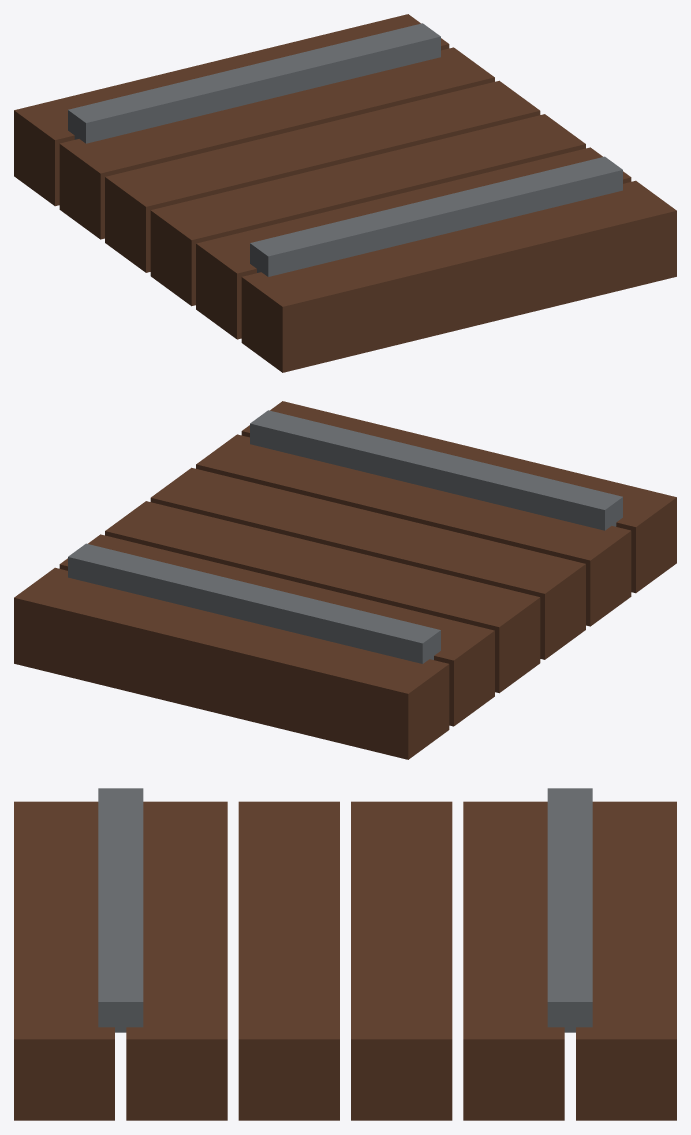
The model's file is Hatch__Floor.fbx.
The picture shows the model from 3 angles, top to bottom: view 1: azimuth 30°, elevation 25°; view 2: azimuth 150°, elevation 25°; view 3: azimuth 270°, elevation 25°; orthographic projection. The views are drawn at different scales.
Visible parts, largest first — view 1: Hatch__Floor; view 2: Hatch__Floor; view 3: Hatch__Floor.
Boxes of the visible parts, x1=… form: Hatch__Floor: x1=14, y1=14, x2=676, y2=372; Hatch__Floor: x1=14, y1=401, x2=676, y2=759; Hatch__Floor: x1=14, y1=788, x2=676, y2=1120.
Size of the model in its own units: 100 by 21 by 118.
1 material, 1 textured.
